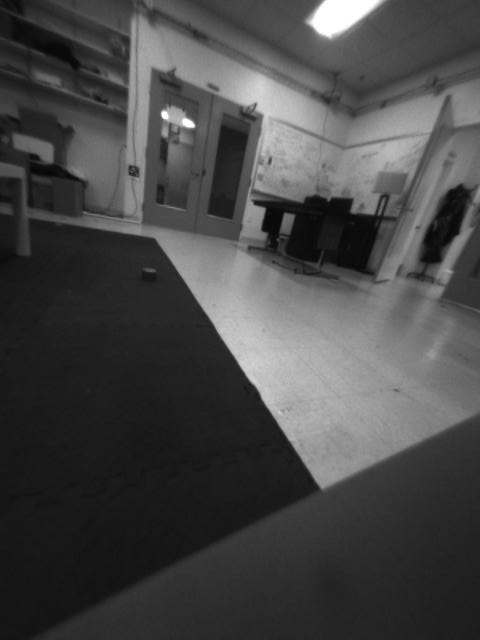dogtoy: (129, 259, 168, 284)
